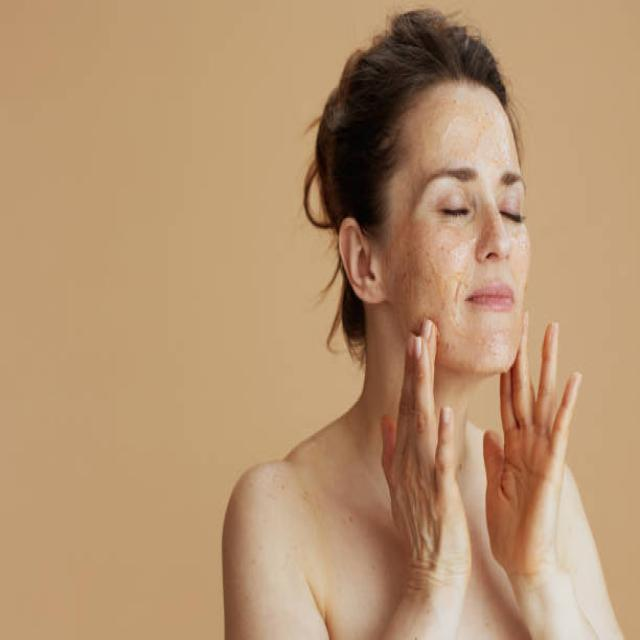flakiness: (440, 238, 474, 300)
